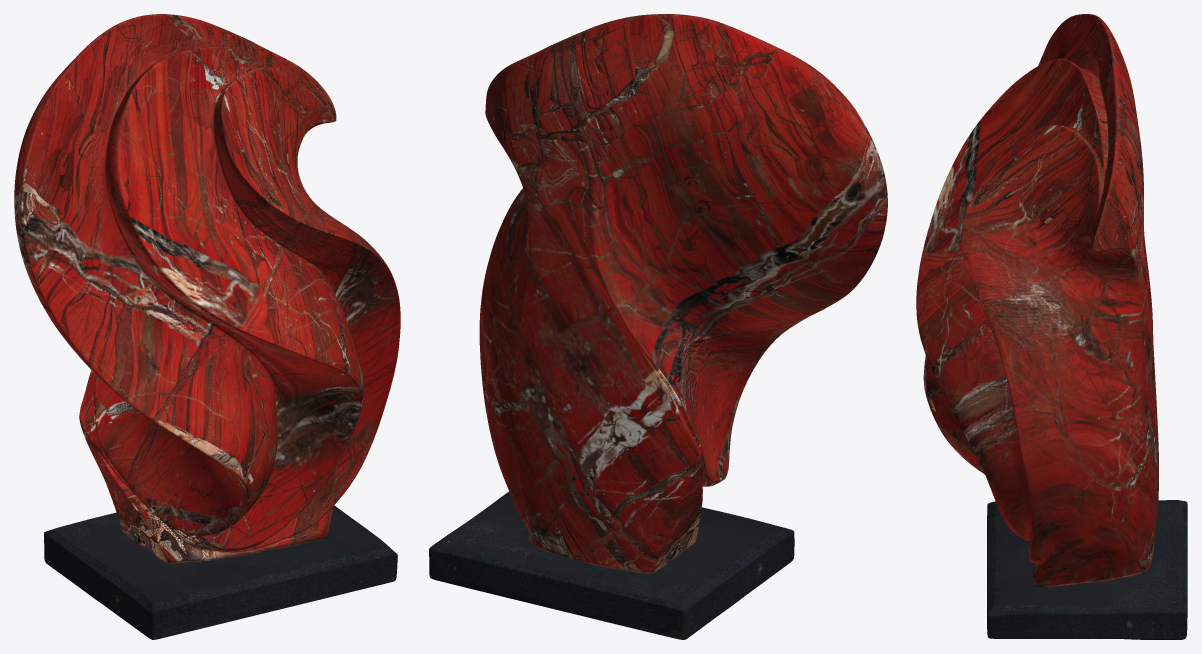
The model's file is red-interlace-uploaded-v1.glb.
3 renders of one model, left to right at view 1: azimuth 30°, elevation 25°; view 2: azimuth 150°, elevation 25°; view 3: azimuth 270°, elevation 25°, orthographic. The views are drawn at different scales.
Bounding box in the file's own units: 1.31 × 1.9 × 0.8986.
Materials: 1 (1 with a texture image).
